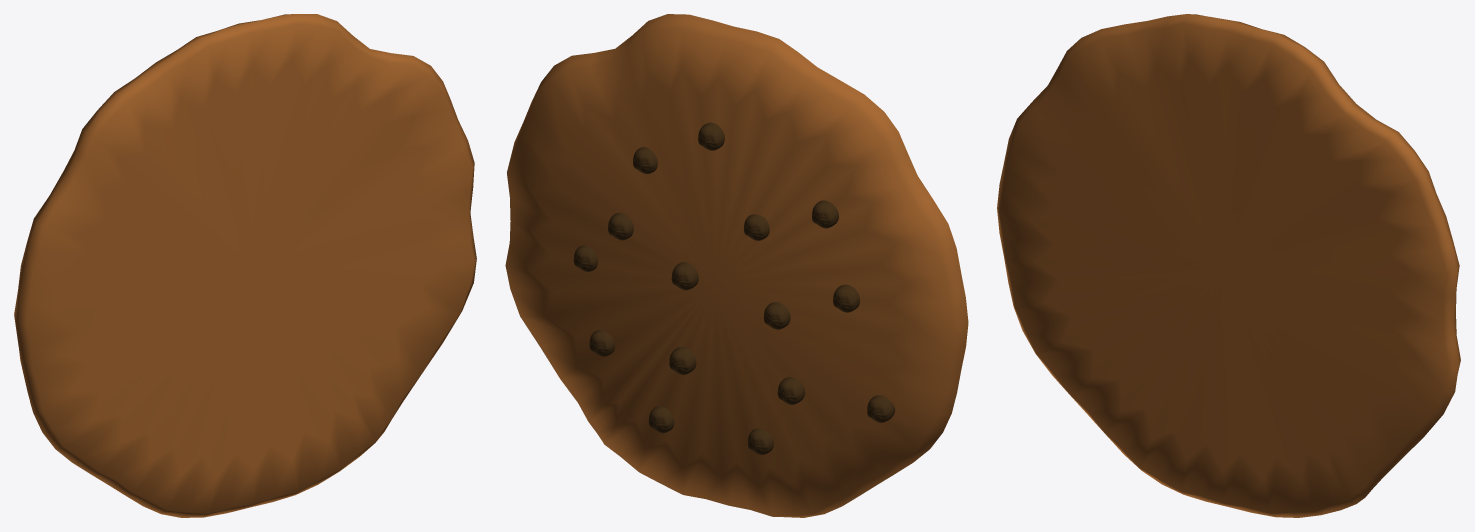
File: cookie.fbx
The picture shows the model from 3 angles, left to right: view 1: azimuth 30°, elevation 25°; view 2: azimuth 150°, elevation 25°; view 3: azimuth 330°, elevation 25°; orthographic projection.
Visible parts, largest first — view 1: cookie; view 2: cookie; view 3: cookie.
Boxes of the visible parts, box(x1,y1,x2,y2) form: cookie: box(14, 14, 476, 517); cookie: box(505, 14, 968, 517); cookie: box(997, 14, 1460, 517).
Size of the model in its own units: 194 by 194 by 25.8.
